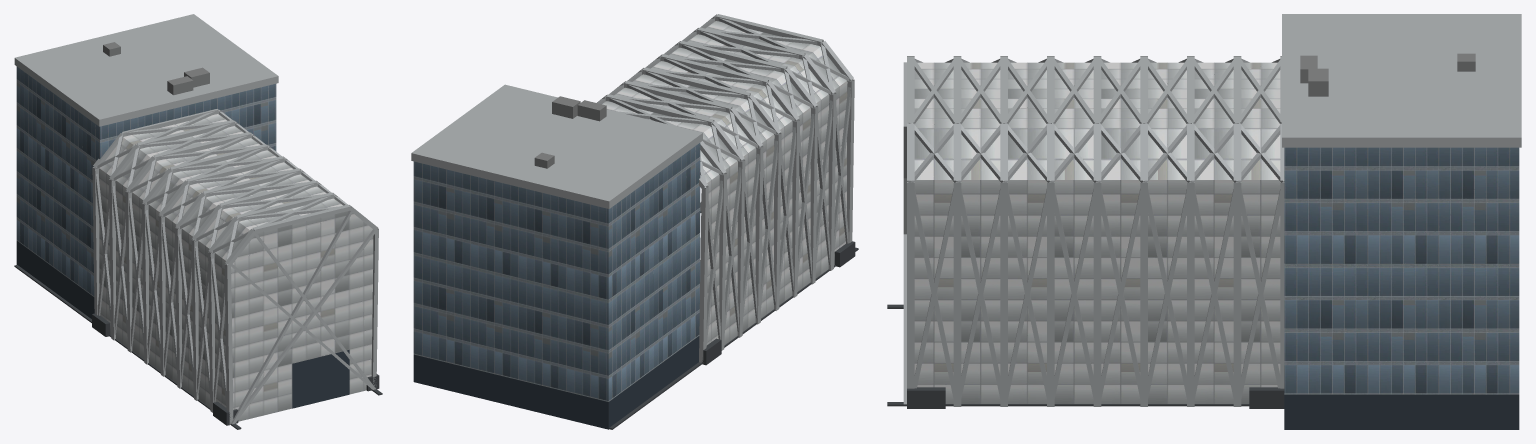
The model's file is the_shed.glb.
The picture shows the model from 3 angles, left to right: view 1: azimuth 30°, elevation 25°; view 2: azimuth 150°, elevation 25°; view 3: azimuth 270°, elevation 25°; orthographic projection. The views are drawn at different scales.
Visible parts, largest first — view 1: the_shed; view 2: the_shed; view 3: the_shed.
Boxes of the visible parts, <box> form: the_shed: <box>14,14,382,429</box>; the_shed: <box>411,14,858,429</box>; the_shed: <box>887,14,1521,429</box>.
Size of the model in its own units: 38.69 by 43.94 by 81.5.
Materials: 3 (3 with a texture image).
